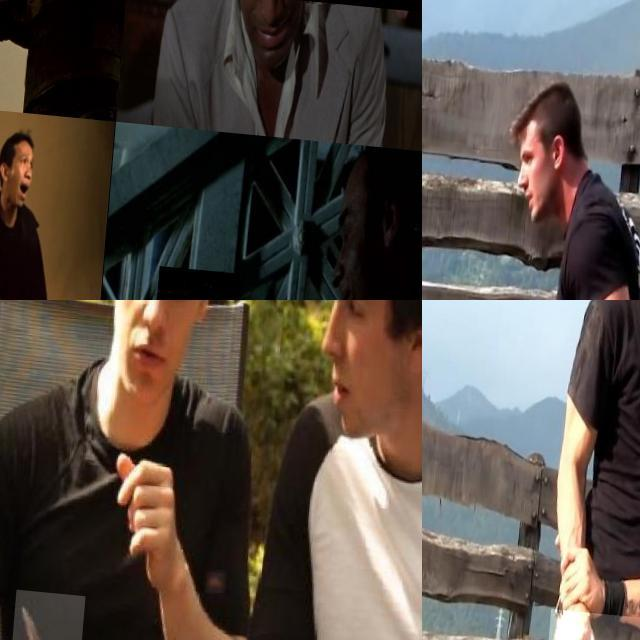-: (15, 588, 94, 640), (422, 115, 448, 257), (553, 604, 640, 640)
gun-knife-thesis - v11 Yolov5 augmented: (0, 171, 76, 300), (300, 0, 422, 66), (159, 258, 248, 300), (0, 0, 36, 59)
